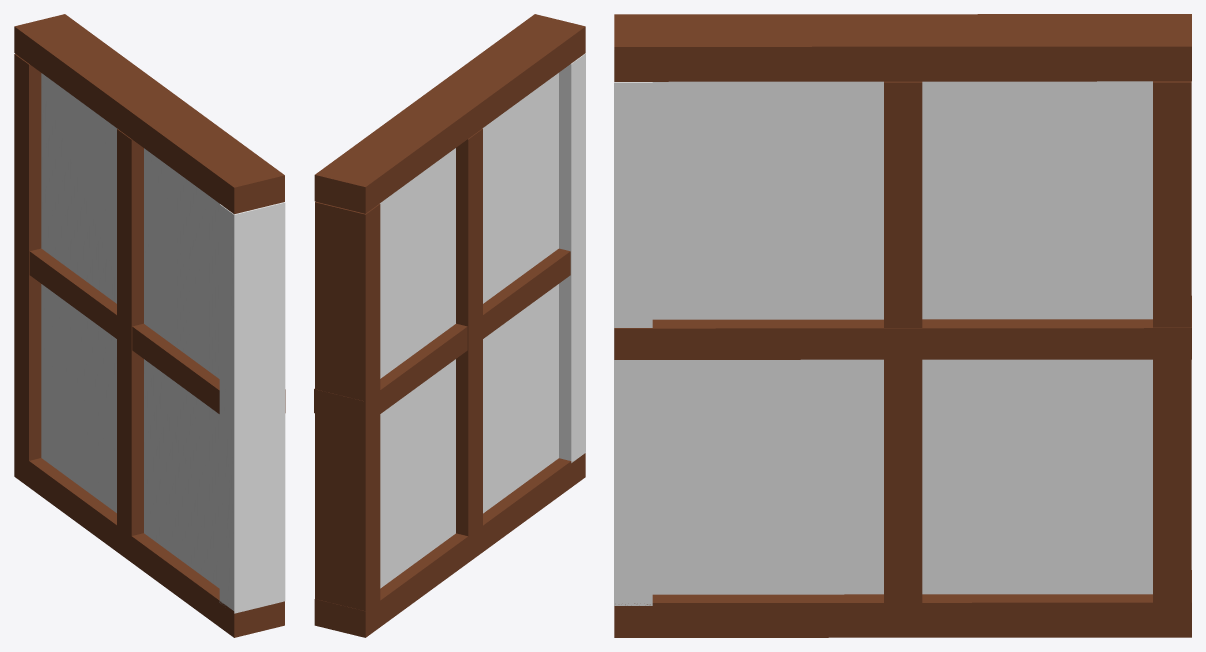
File: window1.glb
3 views of the same model, side by side, from view 1: azimuth 30°, elevation 25°; view 2: azimuth 150°, elevation 25°; view 3: azimuth 270°, elevation 25° (orthographic). The views are drawn at different scales.
Visible parts, largest first — view 1: Cube, Cube.002, Cube.004, Cube.003, Cube.001, Cube.005, Cube.006; view 2: Cube, Cube.003, Cube.004, Cube.002, Cube.001, Cube.005, Cube.006; view 3: Cube, Cube.004, Cube.005, Cube.006, Cube.003, Cube.001, Cube.002.
Part boxes in pixels (bbox=[...]): Cube: bbox=[41, 73, 219, 588]; Cube.002: bbox=[219, 202, 285, 613]; Cube.004: bbox=[14, 14, 284, 214]; Cube.003: bbox=[14, 54, 41, 462]; Cube.001: bbox=[117, 129, 143, 537]; Cube.005: bbox=[14, 451, 284, 637]; Cube.006: bbox=[29, 248, 285, 413]; Cube: bbox=[380, 73, 558, 588]; Cube.003: bbox=[315, 202, 380, 612]; Cube.004: bbox=[314, 14, 585, 213]; Cube.002: bbox=[559, 53, 585, 462]; Cube.001: bbox=[456, 128, 482, 537]; Cube.005: bbox=[314, 453, 585, 637]; Cube.006: bbox=[314, 248, 570, 425]; Cube: bbox=[652, 81, 1152, 594]; Cube.004: bbox=[614, 14, 1191, 81]; Cube.005: bbox=[614, 570, 1191, 637]; Cube.006: bbox=[614, 296, 1191, 359]; Cube.003: bbox=[1153, 81, 1191, 605]; Cube.001: bbox=[884, 81, 922, 605]; Cube.002: bbox=[614, 50, 652, 605].
Size of the model in its own units: 0.4052 by 3.39 by 3.
Materials: 7 (5 with a texture image).
